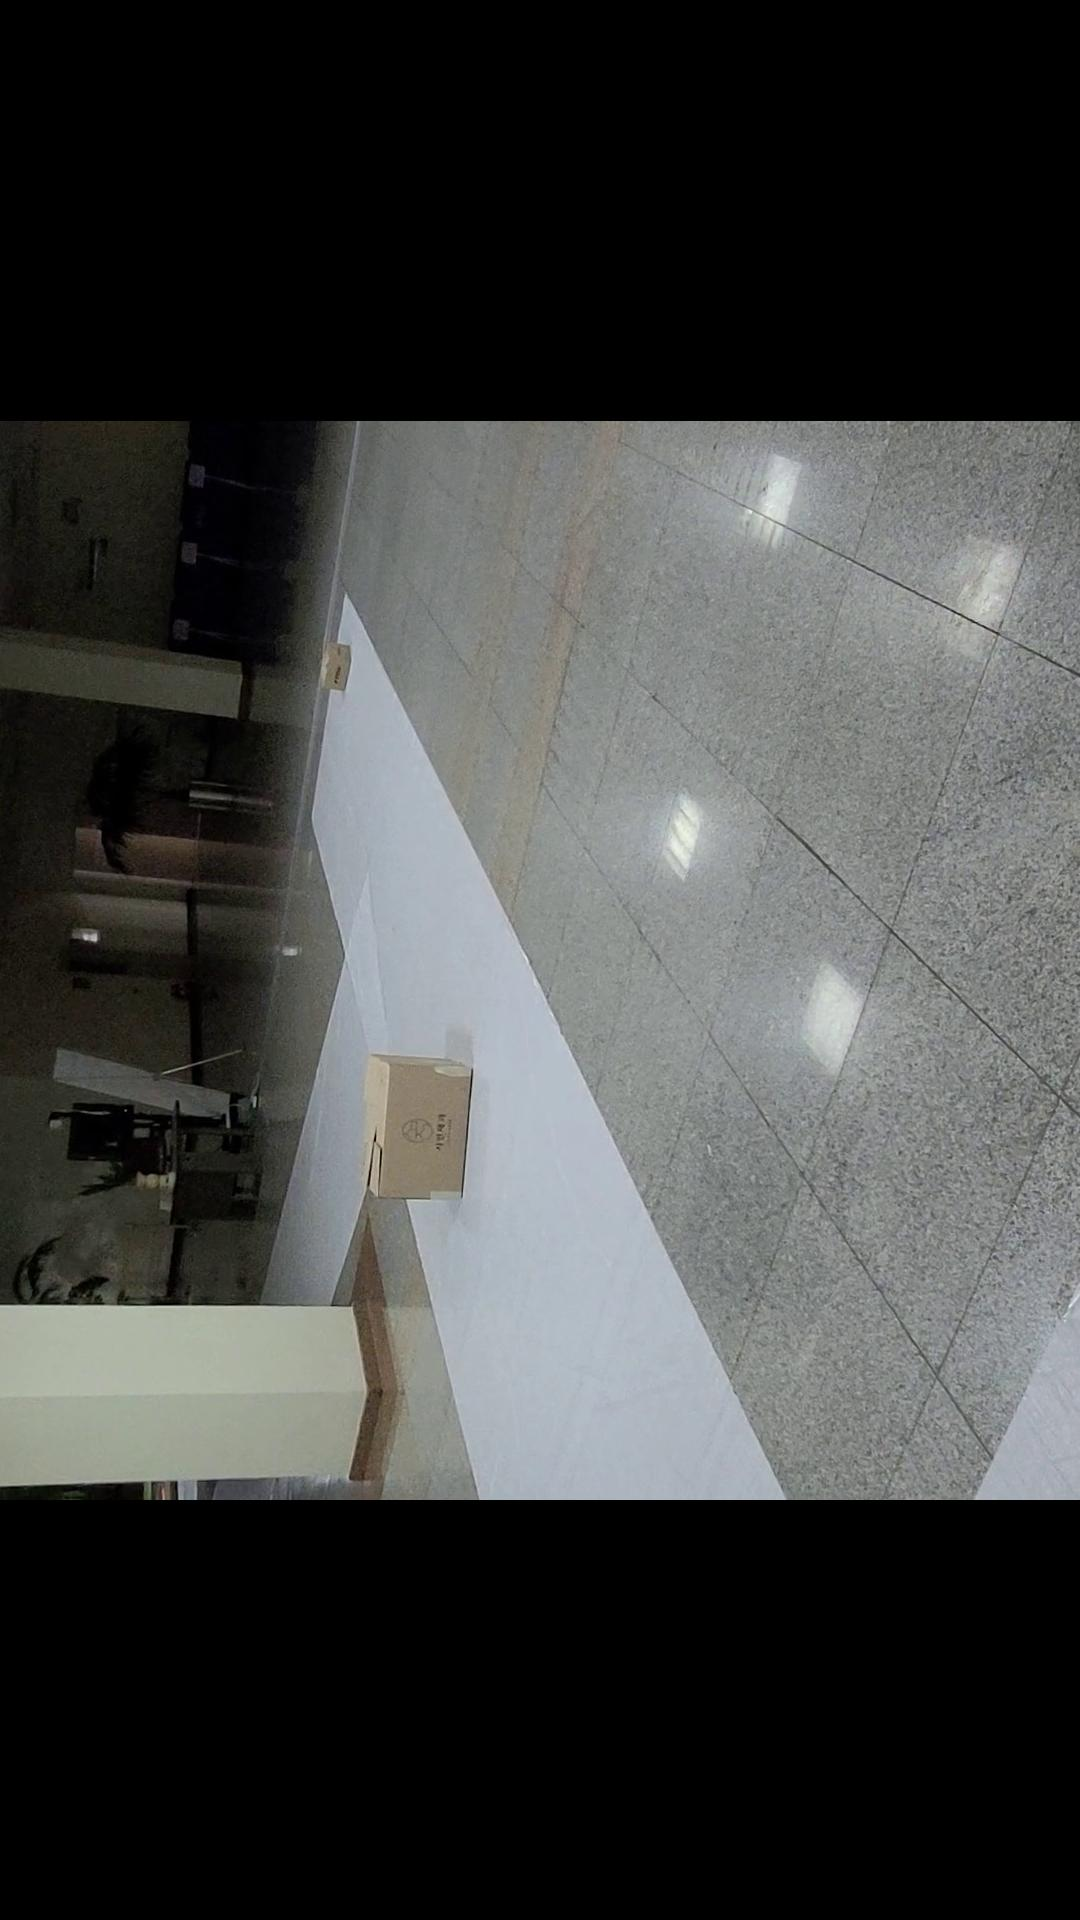Box: (355, 1021, 492, 1226), (285, 613, 375, 719)
